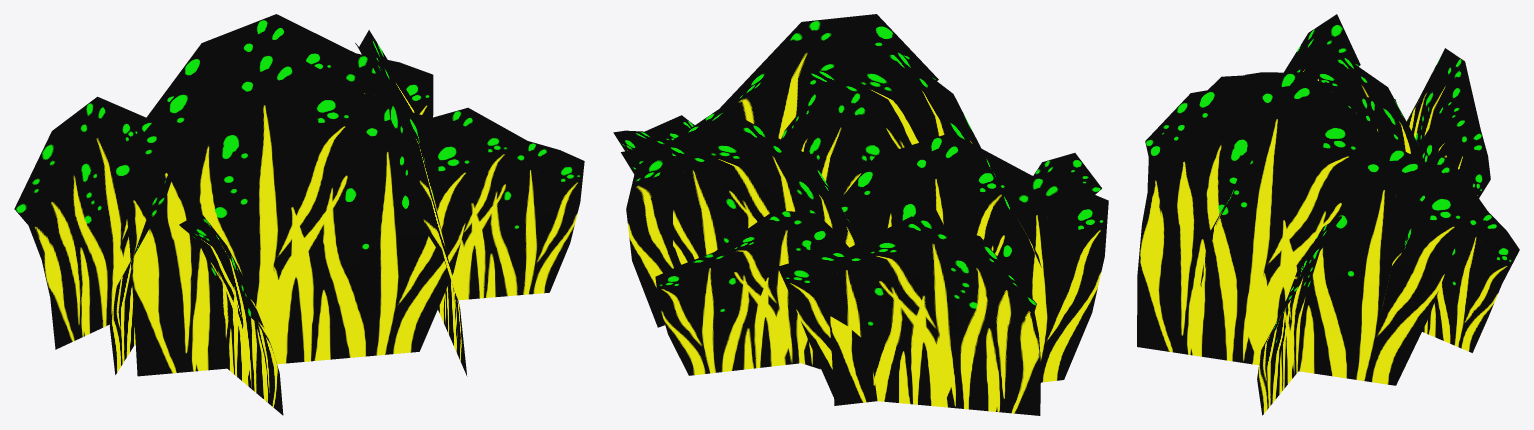
Rendered from SM_Grass_01a.fbx.
3 views of the same model, side by side, from view 1: azimuth 30°, elevation 25°; view 2: azimuth 150°, elevation 25°; view 3: azimuth 270°, elevation 25° (orthographic). The views are drawn at different scales.
Parts seen in each view (by area): view 1: SM_Grass_01; view 2: SM_Grass_01; view 3: SM_Grass_01.
Part boxes in pixels (x1,y1,x2,y2): SM_Grass_01: (14,14,584,415); SM_Grass_01: (613,14,1108,415); SM_Grass_01: (1137,14,1519,415).
Size of the model in its own units: 56.45 by 31.27 by 40.05.
